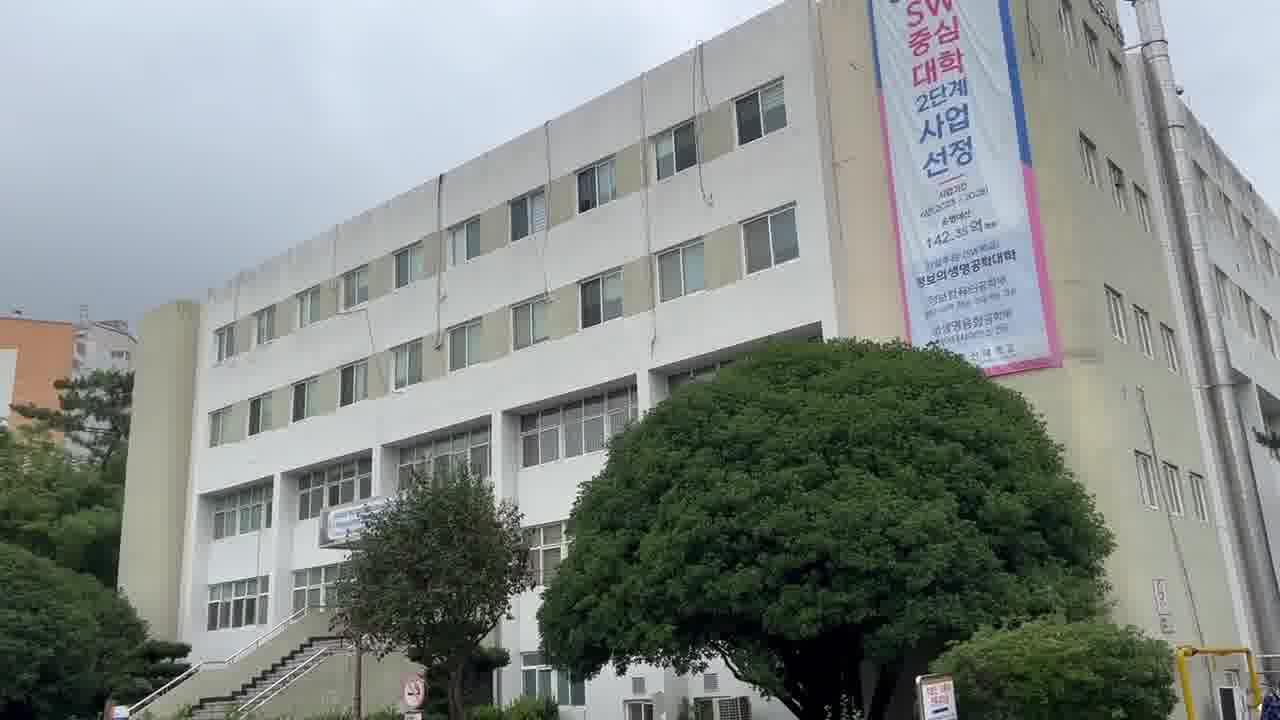building: (147, 208, 611, 512)
